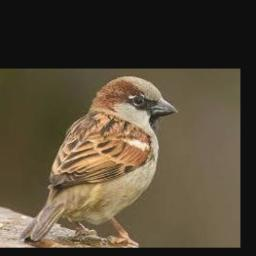Sparrow: (19, 76, 179, 245)
